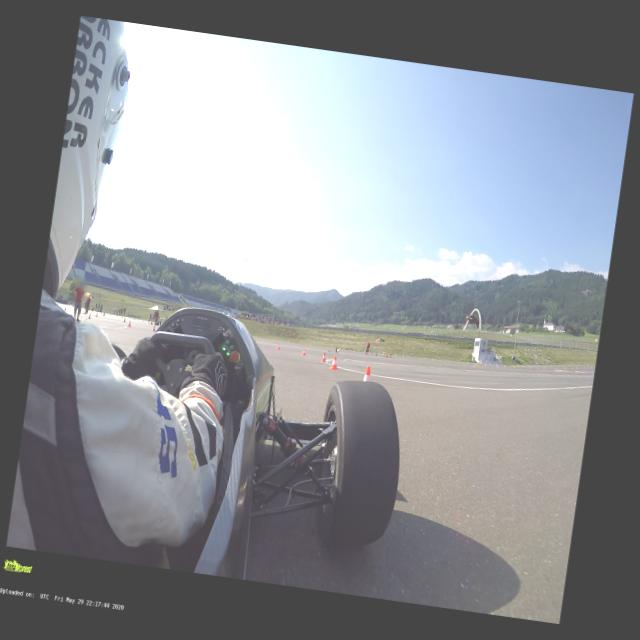orange_cone: (363, 366, 372, 382), (329, 356, 339, 370), (321, 352, 327, 363), (302, 348, 307, 356), (152, 326, 156, 332), (128, 320, 131, 327), (276, 344, 280, 349)
